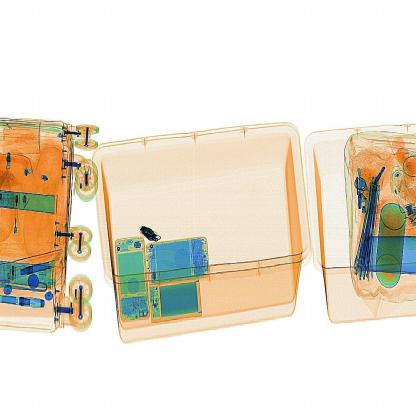scissors: (138, 223, 166, 250)
